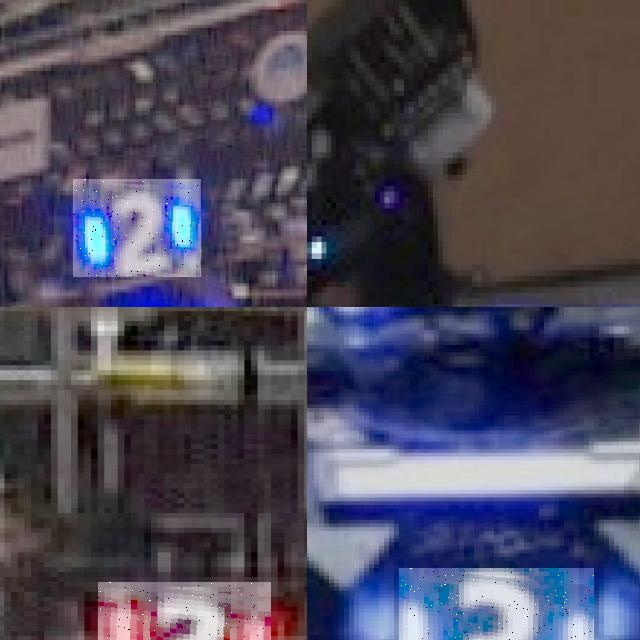B2: (73, 179, 201, 277)
B3: (399, 568, 594, 640)
R2: (97, 581, 271, 640)
